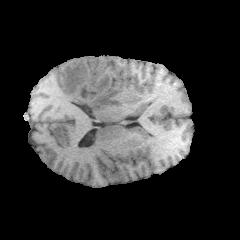glioma: (63, 60, 122, 110)
